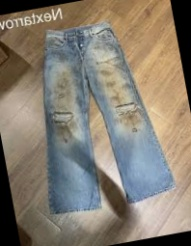earth: (100, 65, 128, 107), (56, 77, 73, 108), (118, 112, 142, 129), (57, 120, 77, 136)
